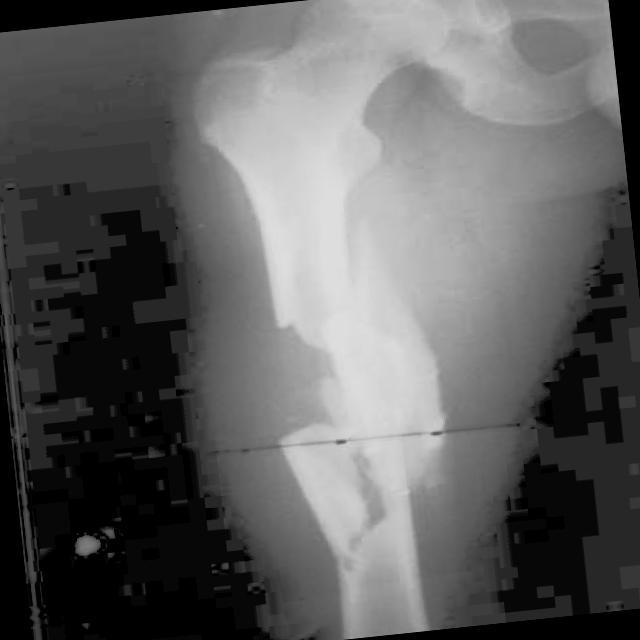Comminuted Fracture: (256, 306, 390, 558)
